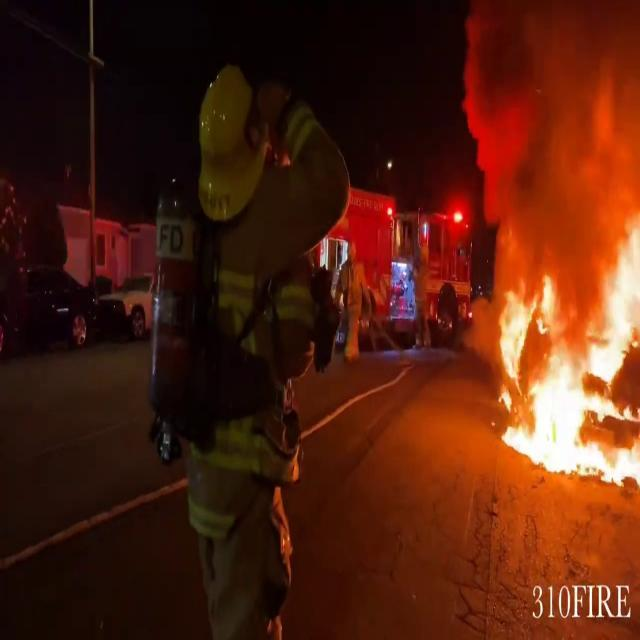Fire: (489, 196, 640, 490)
Smoke: (458, 0, 639, 237)
